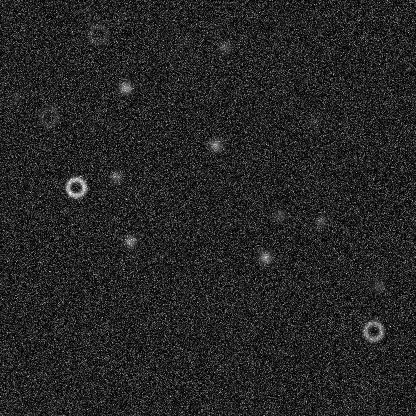Ring: (85, 22, 109, 46), (361, 319, 385, 343), (63, 175, 87, 199), (37, 104, 61, 128)
Spot: (177, 33, 193, 49), (117, 79, 133, 95), (312, 212, 328, 228), (122, 232, 138, 248), (370, 277, 386, 293), (257, 249, 273, 265), (272, 207, 288, 223), (7, 90, 23, 106), (216, 38, 232, 54), (107, 168, 123, 184), (207, 136, 223, 152), (305, 113, 321, 129)
